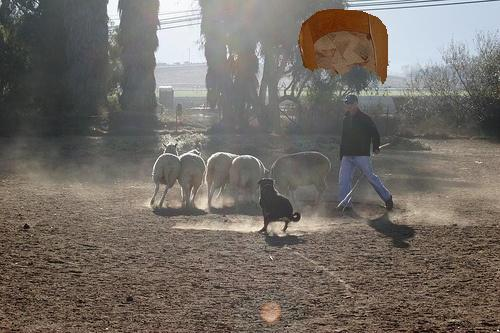tampered: (299, 10, 388, 84)
